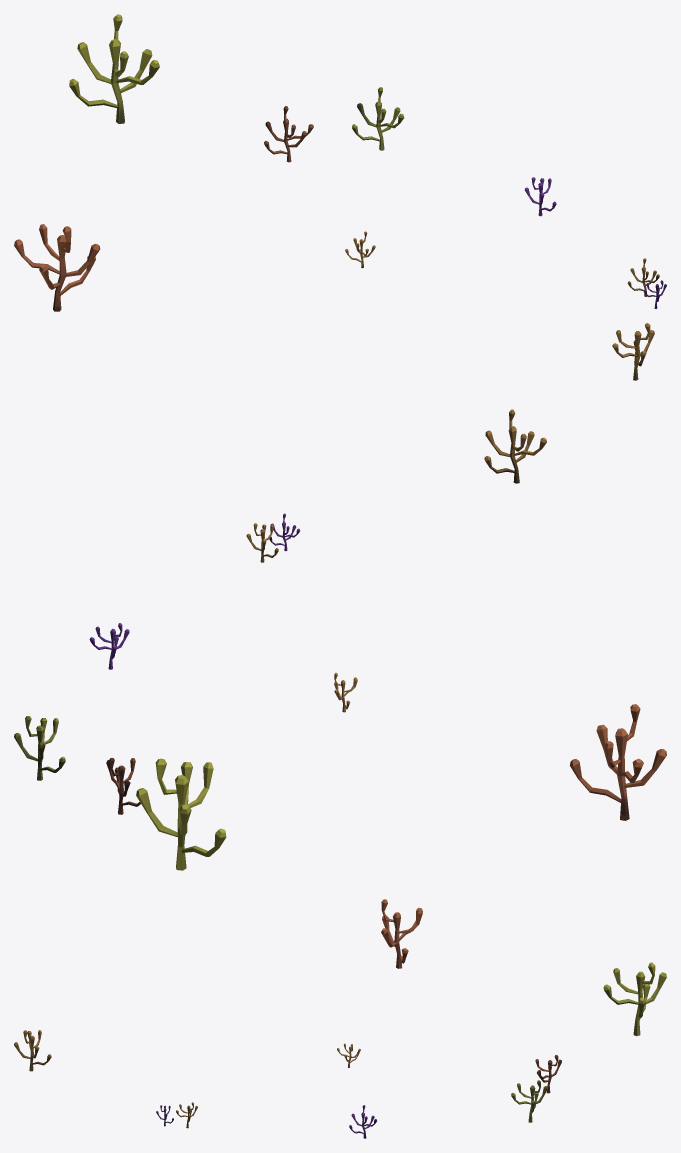
File: Plant_03.FBX
3 renders of one model, top to bottom at view 1: azimuth 30°, elevation 25°; view 2: azimuth 150°, elevation 25°; view 3: azimuth 270°, elevation 25°, orthographic. The views are drawn at different scales.
Parts seen in each view (by area): view 1: Plant_03; view 2: Plant_03; view 3: Plant_03.
Boxes of the visible parts, box(x1,y1,x2,y2) form: Plant_03: box(14, 14, 666, 380); Plant_03: box(14, 409, 666, 870); Plant_03: box(14, 899, 666, 1138).
Size of the model in its own units: 20.39 by 4.72 by 30.43.
